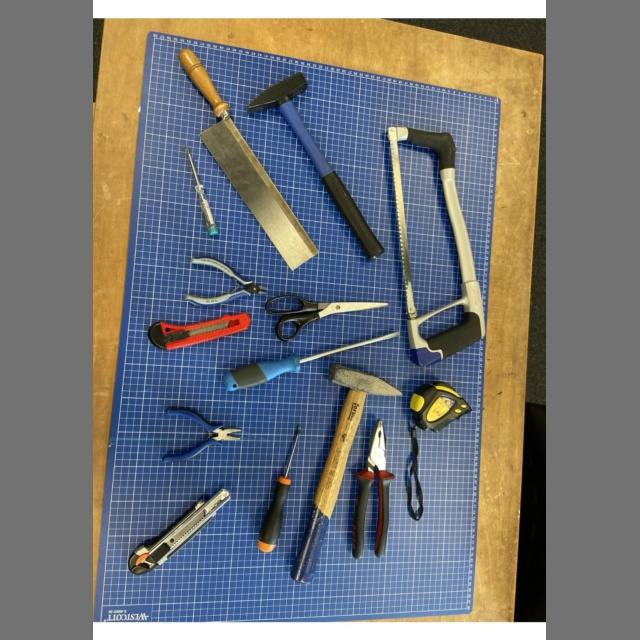scissor: (261, 291, 394, 345)
screwdriver: (218, 327, 403, 396), (253, 421, 306, 556), (183, 140, 222, 242)
